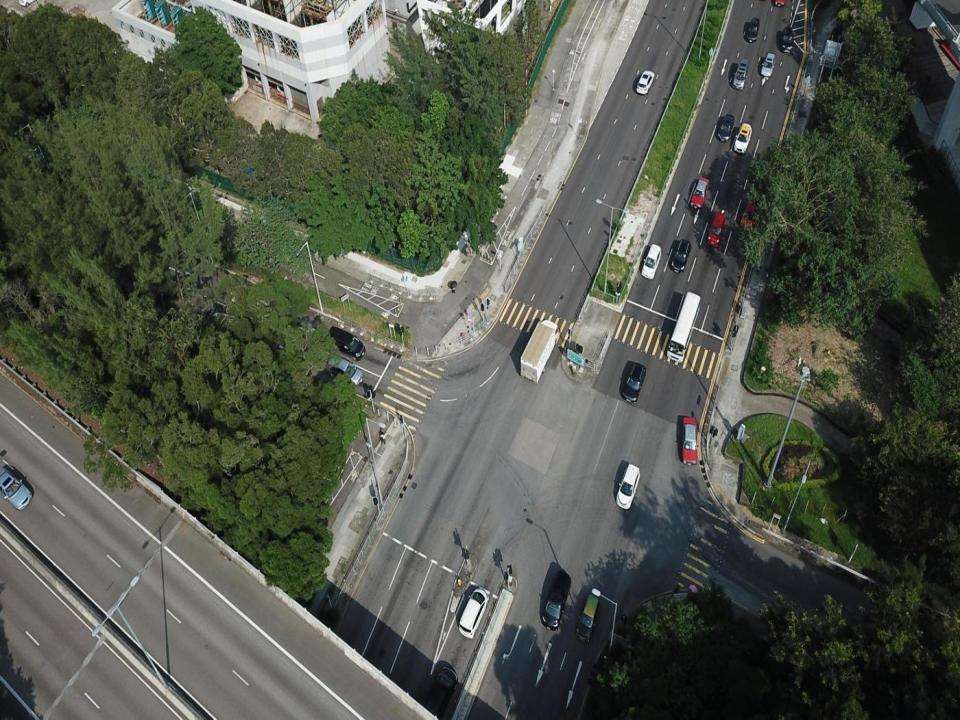bus: (666, 290, 701, 362)
car: (542, 569, 572, 632), (423, 666, 458, 719), (458, 588, 489, 639), (0, 466, 33, 511), (575, 592, 601, 643), (328, 327, 365, 361), (615, 462, 641, 510), (326, 354, 362, 386), (621, 362, 647, 404), (681, 416, 699, 465), (640, 243, 662, 280), (706, 210, 726, 249), (740, 192, 760, 231), (671, 238, 692, 274), (690, 176, 710, 209), (733, 122, 752, 154), (732, 57, 750, 90), (717, 114, 735, 142), (636, 69, 655, 95), (760, 52, 776, 78), (745, 16, 760, 43), (781, 26, 794, 54)
truck: (520, 319, 560, 384)
